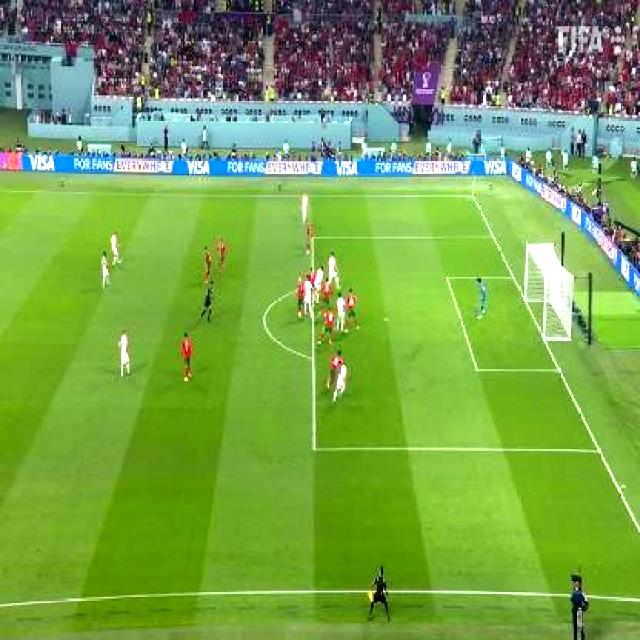bigarea_bottom_inner: (308, 438, 323, 458)
bigarea_bottom_outter: (592, 442, 605, 460)
bigarea_top_inner: (309, 234, 317, 243)
bigarea_top_outter: (490, 231, 496, 240)
bottom_arc_area_intersection: (306, 351, 320, 369)
corner: (468, 192, 475, 200)
smallarea_bottom_inner: (469, 358, 482, 377)
smallarea_bottom_outter: (552, 361, 565, 377)
smallarea_top_inner: (442, 271, 451, 283)
smallarea_top_outter: (508, 269, 517, 283)
